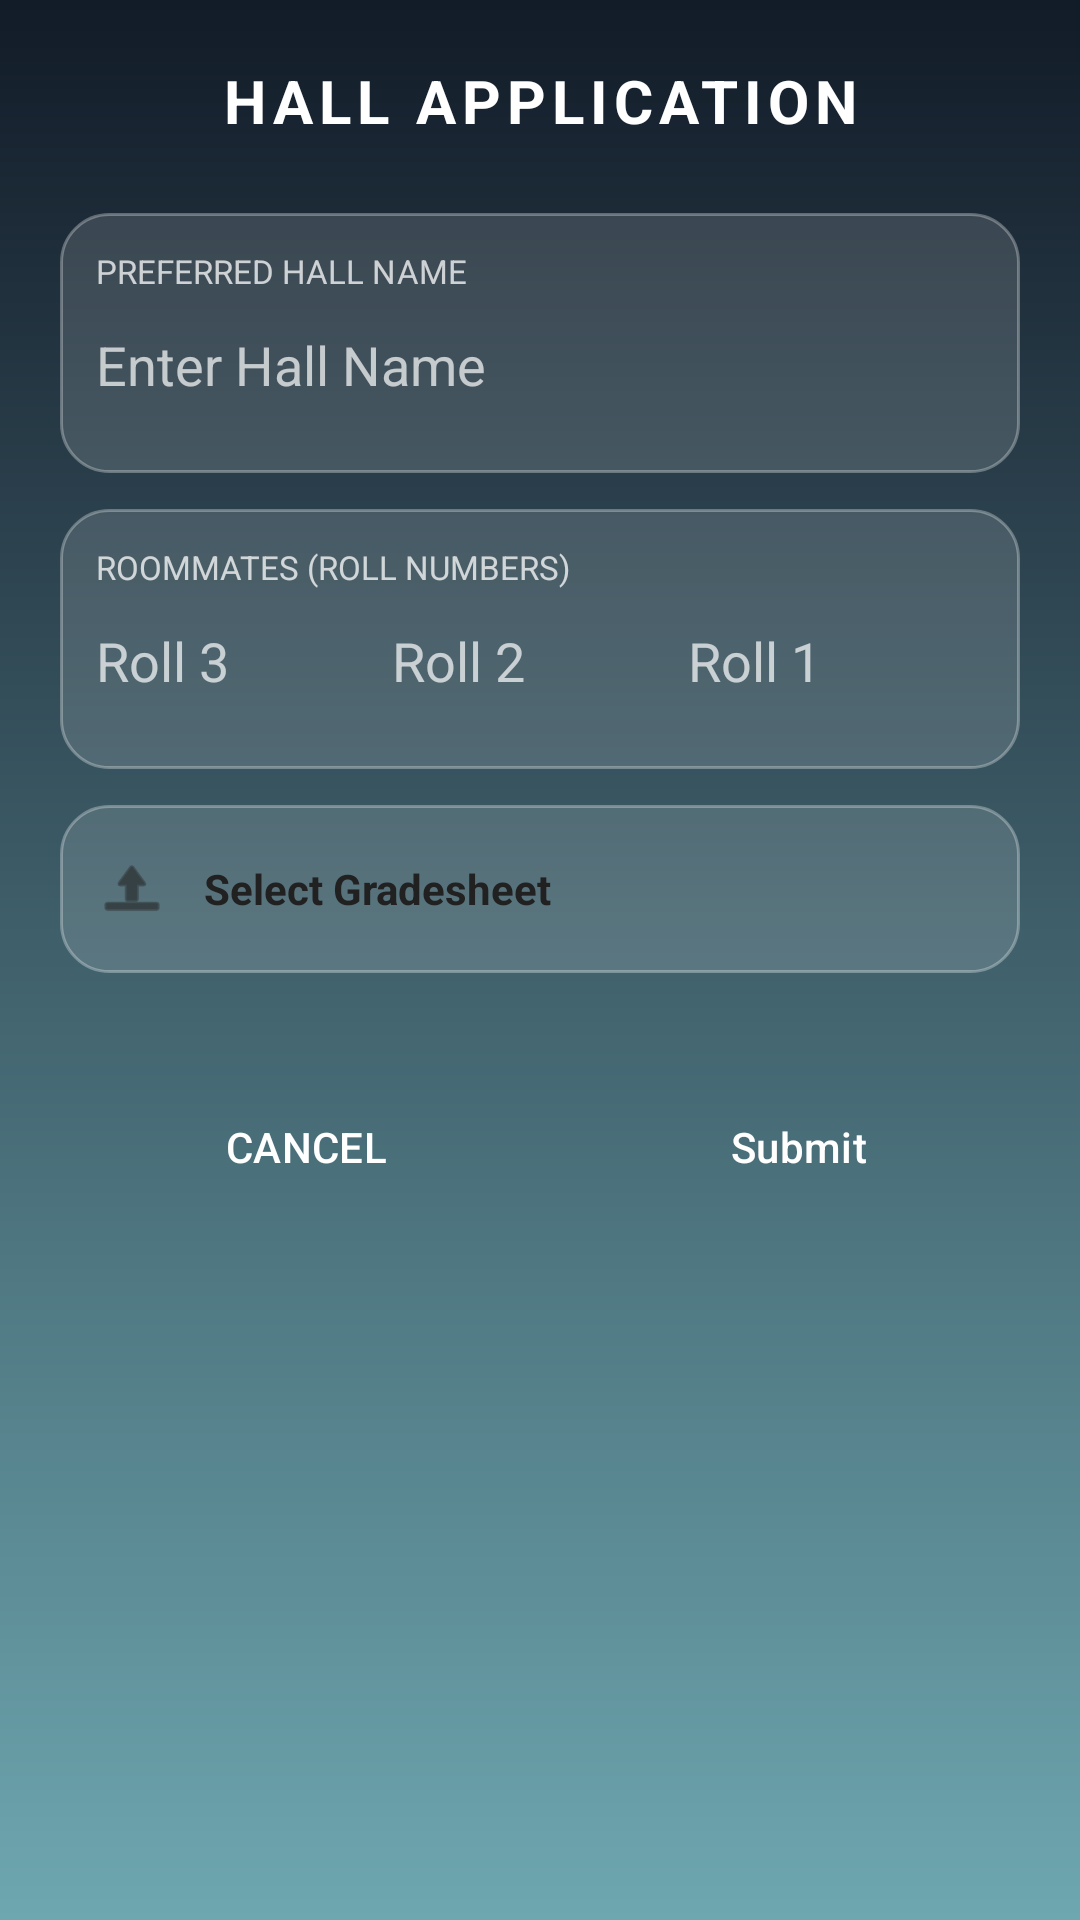

Point at icon controls on the screen. Image size 1080x1920, points as point (x, y).
Upload Icon: point (132, 888)
